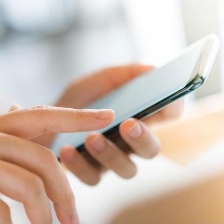phone: (37, 30, 220, 168)
